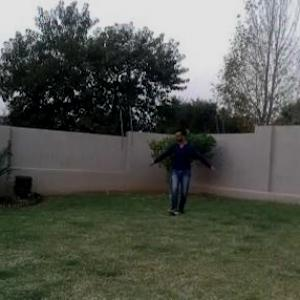land: (148, 104, 226, 230)
